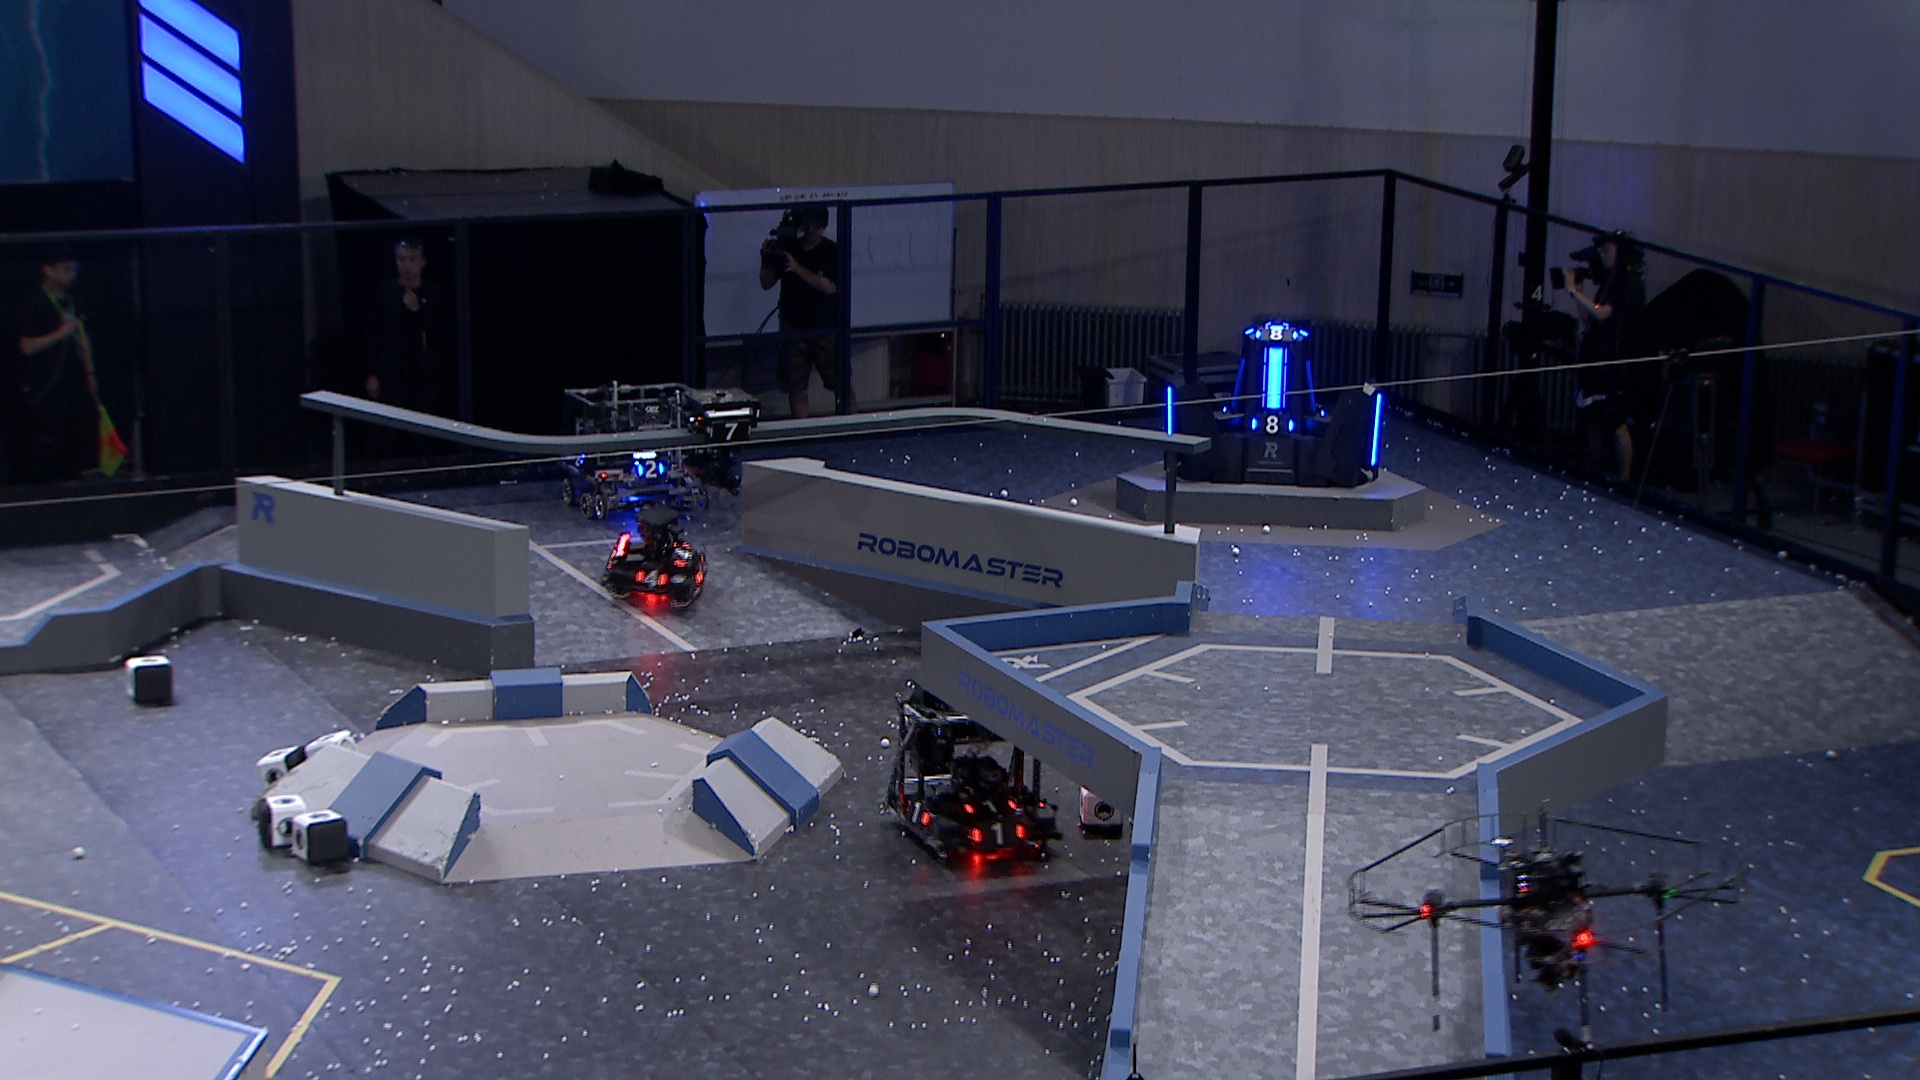armor: (1262, 344, 1286, 411), (965, 822, 1027, 847), (1367, 390, 1385, 471), (1230, 356, 1250, 414), (960, 798, 1019, 816), (1249, 414, 1298, 436), (705, 419, 752, 440), (1302, 357, 1319, 414), (905, 798, 932, 829), (1253, 327, 1302, 343), (636, 458, 670, 480), (636, 567, 670, 589), (674, 541, 694, 568), (1166, 385, 1176, 436), (567, 451, 588, 469)
base: (1164, 320, 1386, 491)
car: (880, 688, 1062, 865), (560, 380, 711, 520), (603, 505, 707, 612)
watcher: (678, 386, 756, 495)
